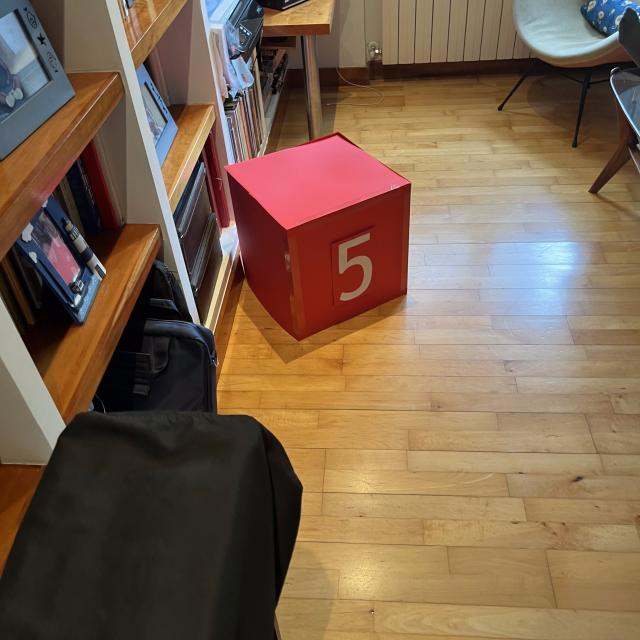box: (221, 128, 414, 342)
